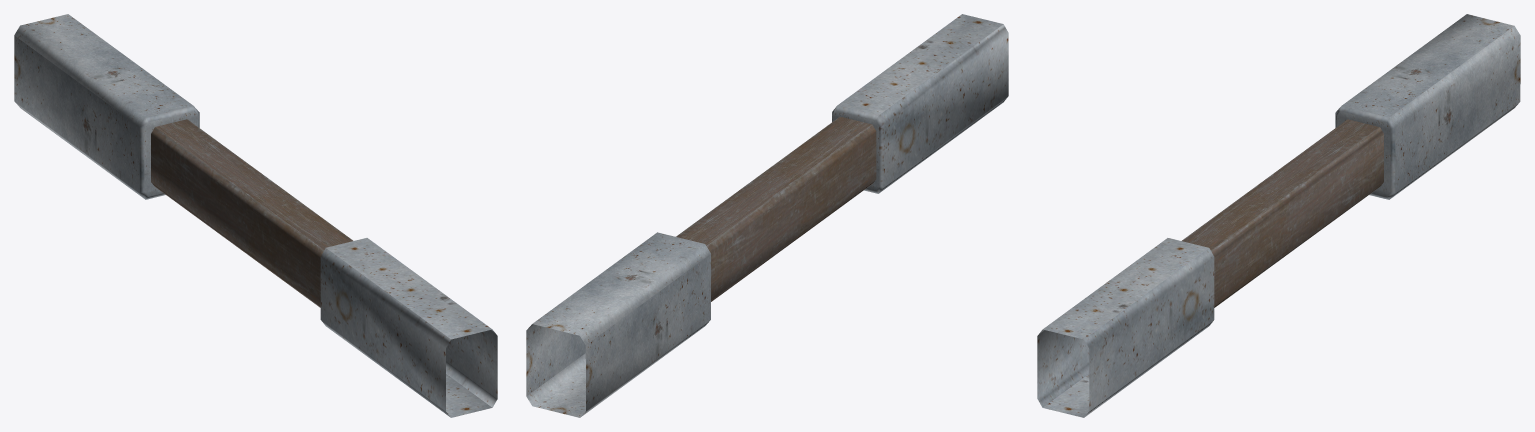
Rendered from Ob_WoodSupportHoriz_RC.fbx.
3 renders of one model, left to right at view 1: azimuth 30°, elevation 25°; view 2: azimuth 150°, elevation 25°; view 3: azimuth 330°, elevation 25°, orthographic.
Parts seen in each view (by area): view 1: Ob_WoodSupportHoriz_RC; view 2: Ob_WoodSupportHoriz_RC; view 3: Ob_WoodSupportHoriz_RC.
Part boxes in pixels (bbox=[...]): Ob_WoodSupportHoriz_RC: bbox=[14, 14, 497, 417]; Ob_WoodSupportHoriz_RC: bbox=[526, 14, 1008, 417]; Ob_WoodSupportHoriz_RC: bbox=[1037, 14, 1520, 417].
Bounding box in the file's own units: 40.28 × 53.02 × 498.
